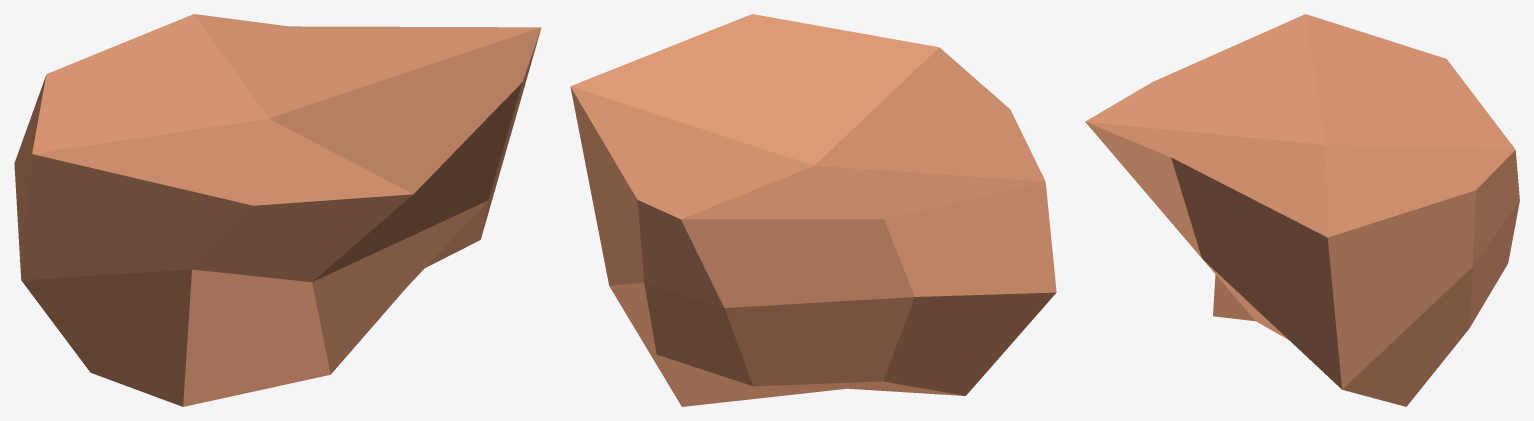
The model's file is Rocks_platforms_1.fbx.
3 renders of one model, left to right at view 1: azimuth 30°, elevation 25°; view 2: azimuth 150°, elevation 25°; view 3: azimuth 270°, elevation 25°, orthographic. The views are drawn at different scales.
Visible parts, largest first — view 1: Cube.000; view 2: Cube.000; view 3: Cube.000.
Boxes of the visible parts, x1,y1,x2,y2 form: Cube.000: (14,14,541,406); Cube.000: (570,14,1056,406); Cube.000: (1085,14,1519,406).
Size of the model in its own units: 1531 by 893 by 1281.
